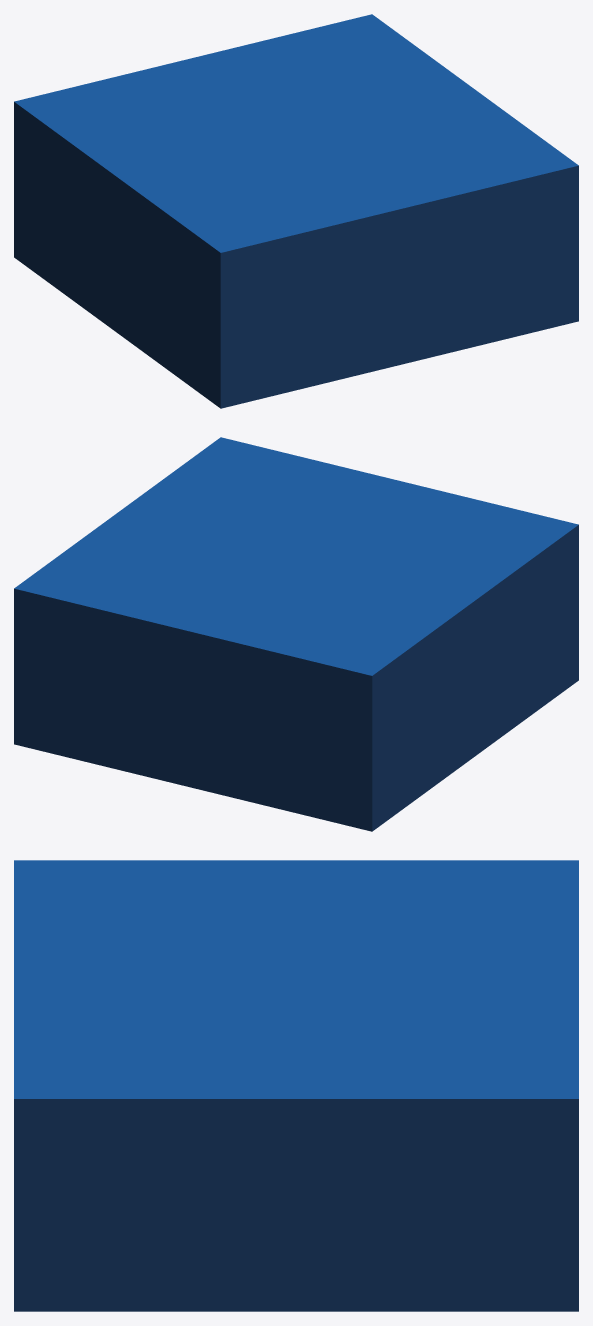
The model's file is Square.fbx.
The picture shows the model from 3 angles, top to bottom: view 1: azimuth 30°, elevation 25°; view 2: azimuth 150°, elevation 25°; view 3: azimuth 270°, elevation 25°; orthographic projection. The views are drawn at different scales.
Parts seen in each view (by area): view 1: Square; view 2: Square; view 3: Square.
Boxes of the visible parts, x1,y1,x2,y2 form: Square: (14,14,578,408); Square: (14,437,578,831); Square: (14,860,578,1311).
Bounding box in the file's own units: 41.8 × 17.37 × 41.8.
Materials: 1 (1 with a texture image).
